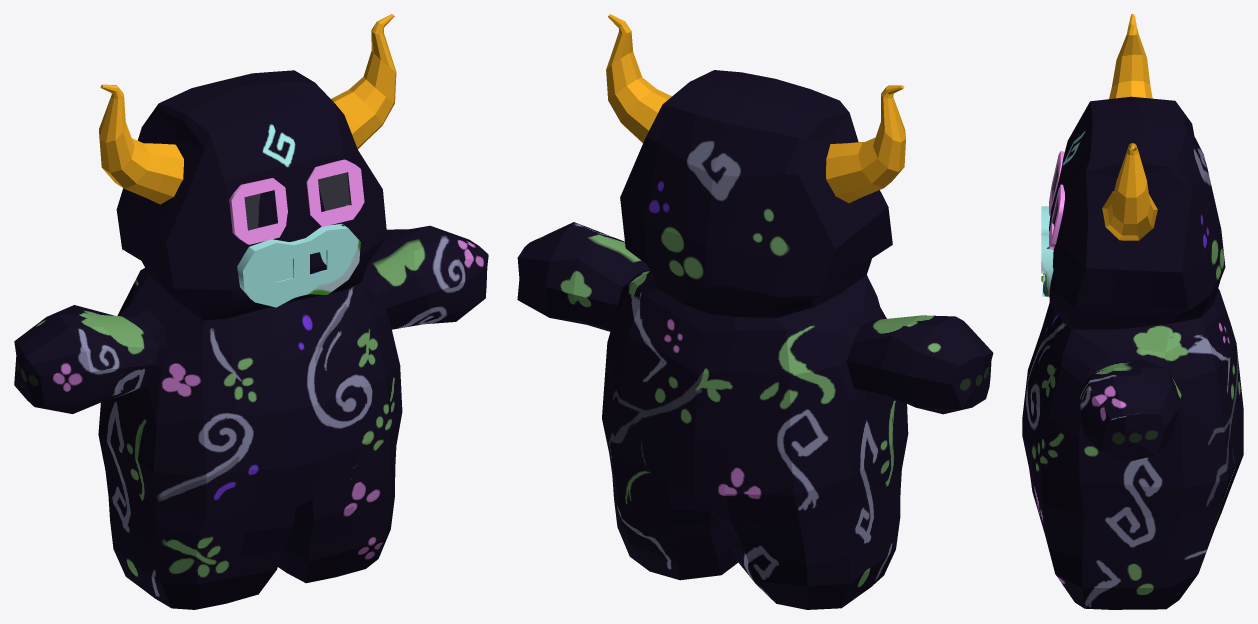
Rendered from TORITO_2.fbx.
3 renders of one model, left to right at view 1: azimuth 30°, elevation 25°; view 2: azimuth 150°, elevation 25°; view 3: azimuth 270°, elevation 25°, orthographic. The views are drawn at different scales.
Visible parts, largest first — view 1: cuerpo, cuernos, nariz, ojos; view 2: cuerpo, cuernos; view 3: cuerpo, cuernos, ojos, nariz.
Boxes of the visible parts, x1=… form: cuerpo: x1=14, y1=70, x2=488, y2=609; cuernos: x1=99, y1=14, x2=396, y2=204; nariz: x1=237, y1=223, x2=360, y2=307; ojos: x1=229, y1=159, x2=364, y2=244; cuerpo: x1=517, y1=70, x2=993, y2=609; cuernos: x1=606, y1=14, x2=905, y2=203; cuerpo: x1=1022, y1=96, x2=1243, y2=609; cuernos: x1=1102, y1=14, x2=1157, y2=240; ojos: x1=1049, y1=151, x2=1064, y2=249; nariz: x1=1041, y1=206, x2=1053, y2=296.
Bounding box in the file's own units: 785 × 856 × 355.
